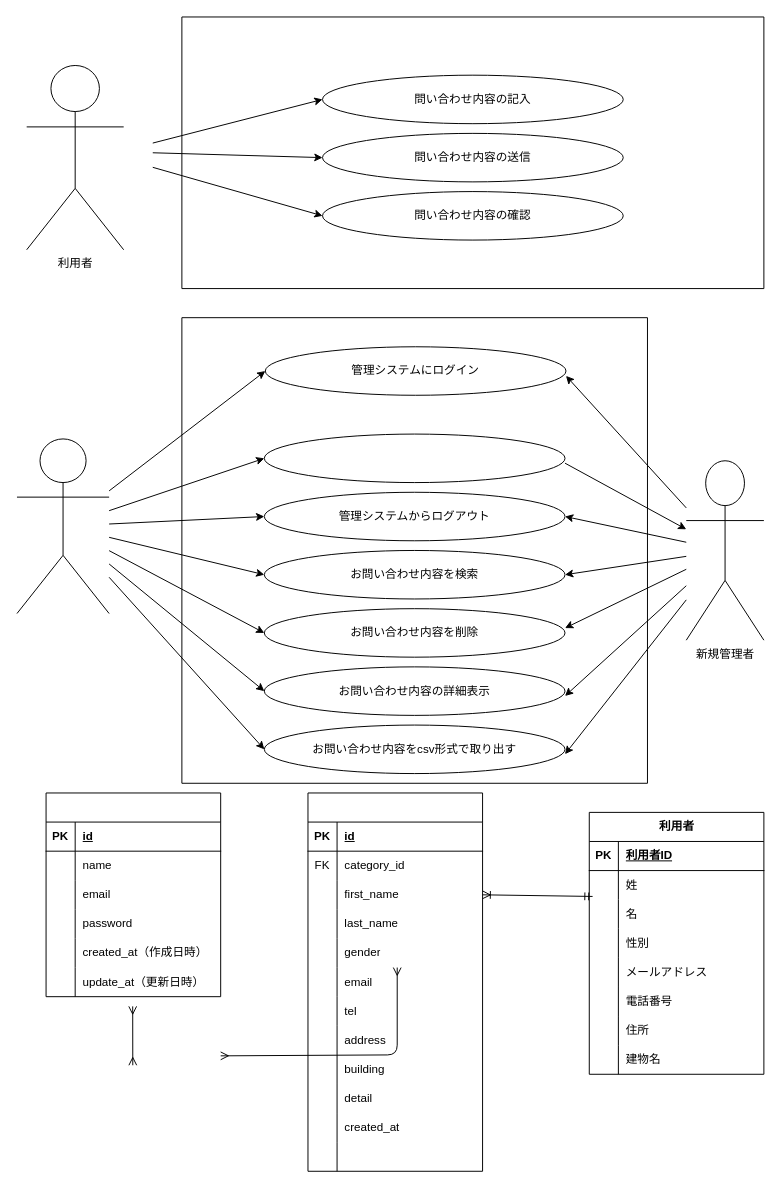
Some shapes in this 781 by 1188 pixel diagram are drawn without their labels. Each missing label, with the box of its shape:
contacts: (307, 792, 483, 1171)
users: (45, 792, 221, 997)
問い合わせ管理システム: (181, 317, 647, 783)
問い合わせ送信システム: (181, 16, 764, 289)
新規ユーザーの作成・登録: (263, 433, 565, 483)
管理者: (16, 438, 109, 614)
